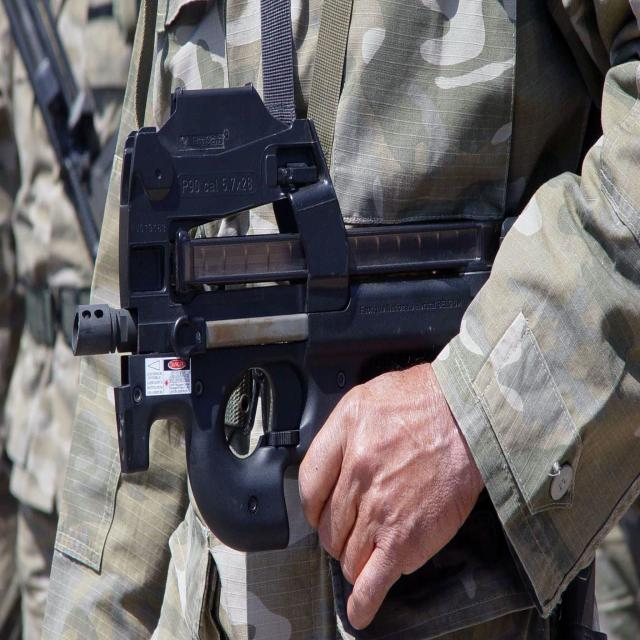SMG: (73, 87, 502, 555)
